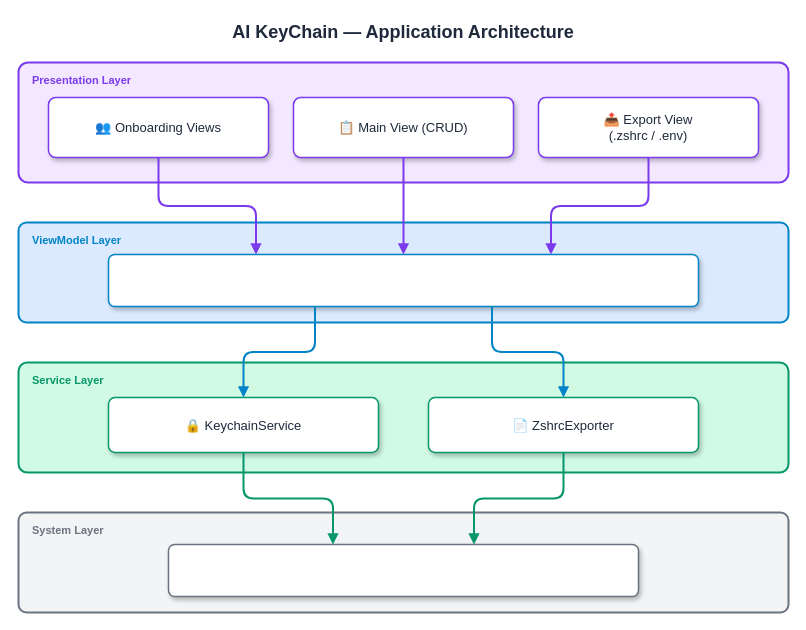
Some shapes in this 806 by 630 pixel diagram are drawn without their labels. Here are the shapes that lost their labels. From the top down, the centre of each, then its label:
At (x=404, y=281): "@Observable ViewModels OnboardingVM | KeyListVM | EditorVM".
At (x=404, y=571): "🔒 macOS Keychain (Security.framework)".
